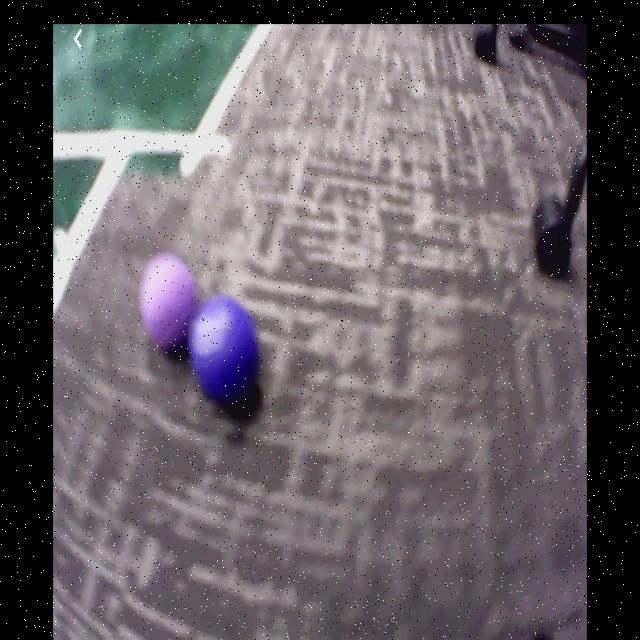ball: (191, 298, 259, 399), (141, 246, 196, 352)
